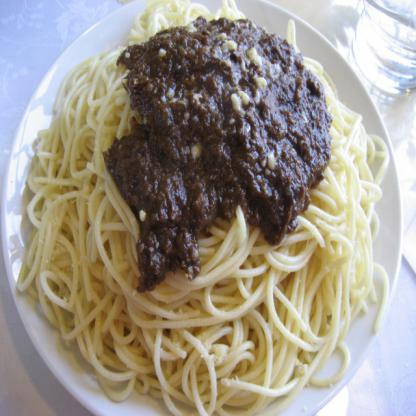pasta: (26, 6, 390, 414)
